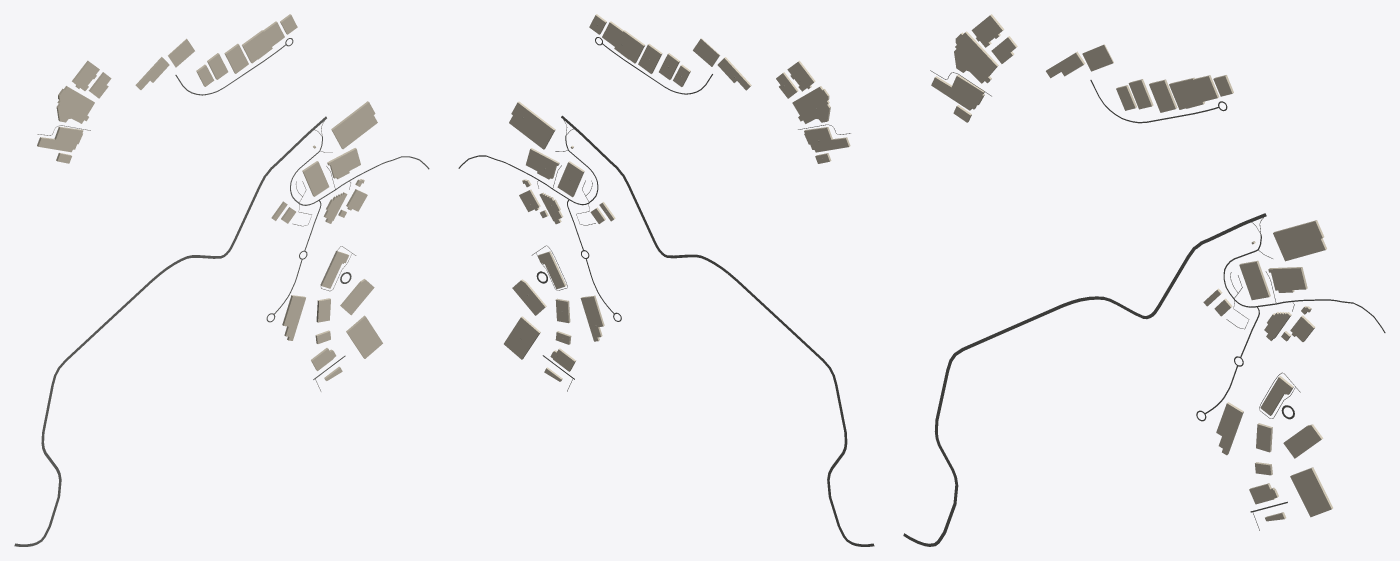
The model's file is historic-palestine-09_26_3511_3209.glb.
3 renders of one model, left to right at view 1: azimuth 30°, elevation 25°; view 2: azimuth 150°, elevation 25°; view 3: azimuth 330°, elevation 25°, orthographic. The views are drawn at different scales.
Parts seen in each view (by area): view 1: Road Bruqin Main, Building_.011, Building_.002, Building_.023, Building_.005, Building_, Building_.029, Building_.006, Building_.028, Building_.004; view 2: Road Bruqin Main, Building_.011, Building_.002, Building_.023, Building_.005, Building_, Building_.029, Building_.006, Building_.004, Building_.028; view 3: Road Bruqin Main, Building_.011, Building_.002, Building_.005, Building_.023, Building_, Building_.006, Building_.029, Building_.004, Building_.028, Building_.001, Building_.027 (+1 smaller).
Part boxes in pixels (box(x1,y1,x2,y2)): Road Bruqin Main: box(14, 116, 326, 546); Building_.011: box(331, 101, 377, 149); Building_.002: box(56, 86, 94, 123); Building_.023: box(242, 21, 284, 63); Building_.005: box(346, 315, 382, 358); Building_: box(37, 126, 83, 152); Building_.029: box(282, 295, 305, 340); Building_.006: box(327, 148, 360, 179); Building_.028: box(340, 279, 374, 315); Building_.004: box(302, 161, 329, 196); Road Bruqin Main: box(561, 115, 874, 546); Building_.011: box(509, 101, 555, 149); Building_.002: box(792, 86, 830, 123); Building_.023: box(602, 21, 645, 63); Building_.005: box(504, 316, 540, 359); Building_: box(804, 127, 850, 152); Building_.029: box(580, 295, 604, 341); Building_.006: box(526, 148, 559, 179); Building_.004: box(557, 161, 584, 197); Building_.028: box(512, 279, 546, 315); Road Bruqin Main: box(903, 213, 1266, 546); Building_.011: box(1273, 220, 1326, 261); Building_.002: box(954, 31, 998, 83); Building_.005: box(1290, 467, 1332, 517); Building_.023: box(1169, 75, 1219, 109); Building_: box(931, 74, 984, 110); Building_.006: box(1268, 267, 1307, 292); Building_.029: box(1216, 402, 1243, 455); Building_.004: box(1239, 260, 1270, 300); Building_.028: box(1283, 424, 1323, 458); Building_.001: box(971, 14, 1004, 47); Building_.027: box(1260, 376, 1293, 415).
Bounding box in the file's own units: 1273 × 1379 × 9.09.
